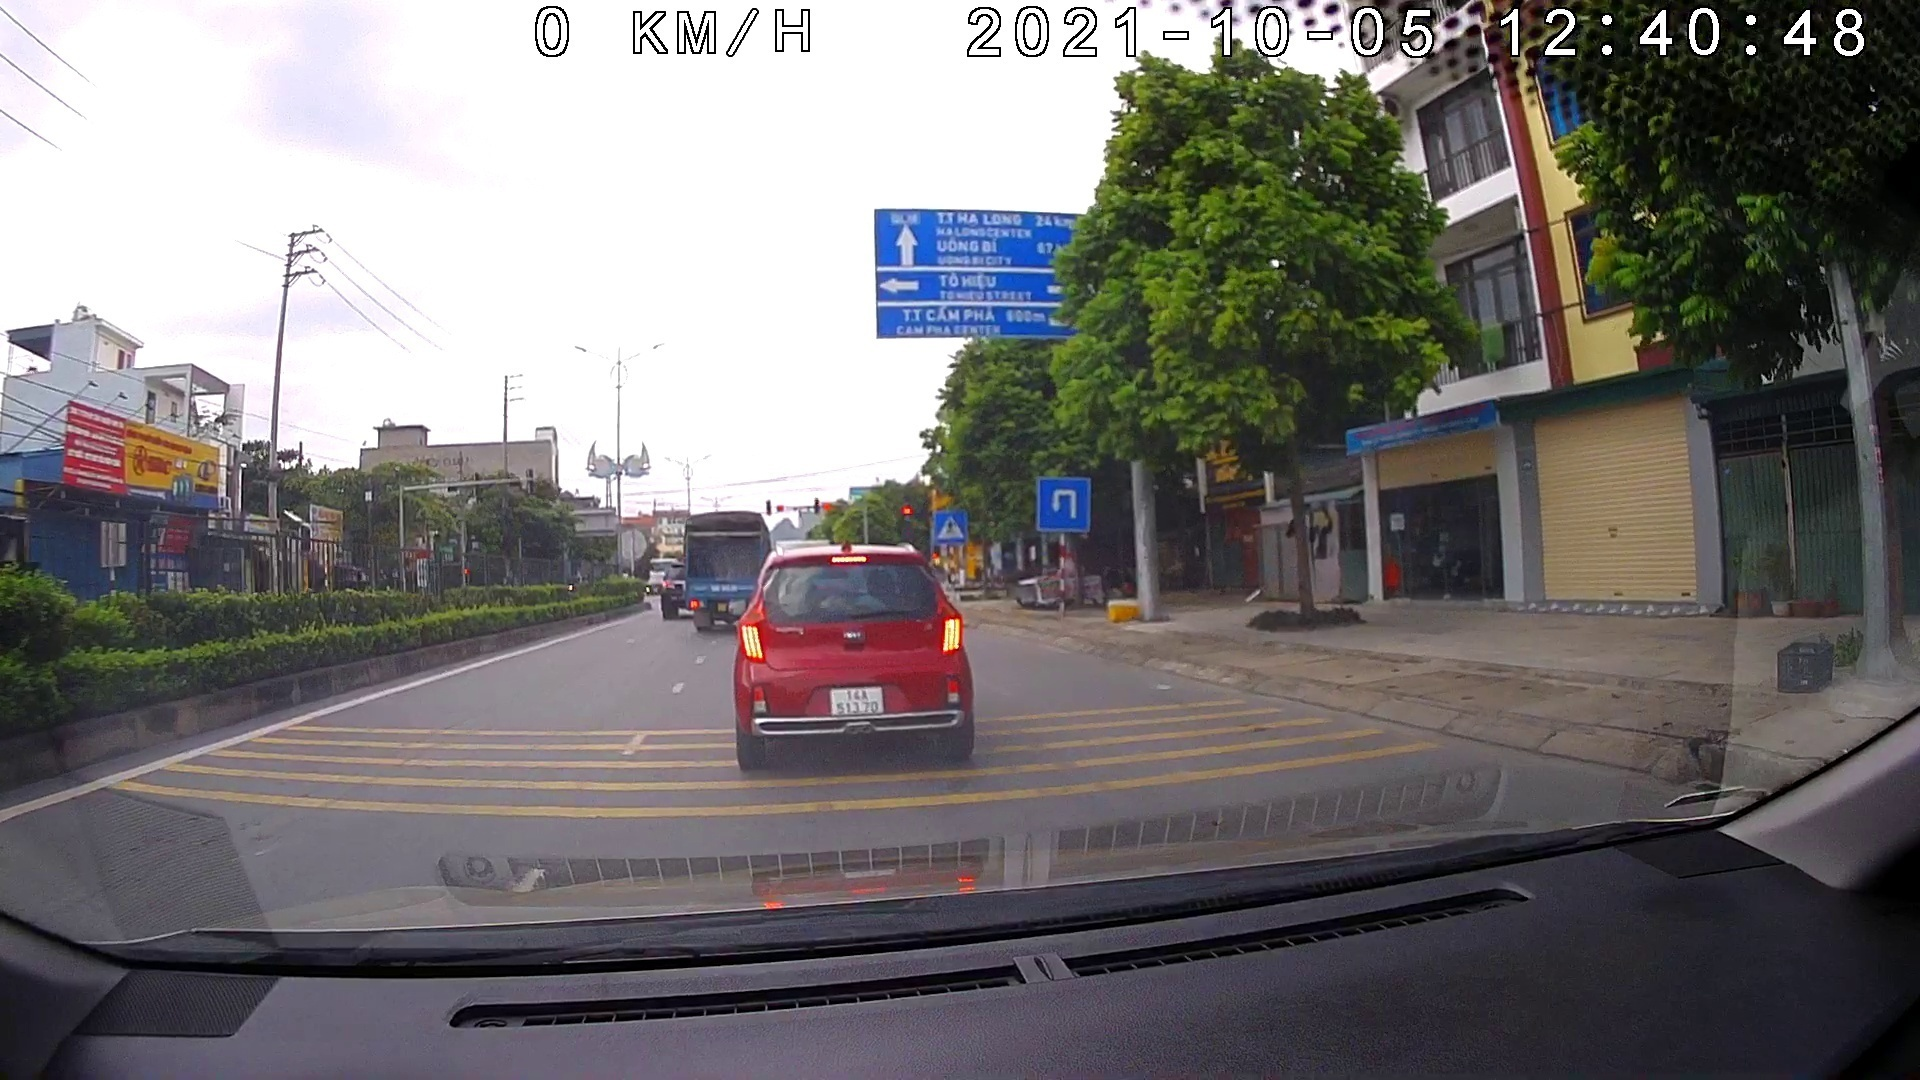Bien khac: (1035, 473, 1089, 537)
Nguoi di bo: (931, 510, 964, 545)
